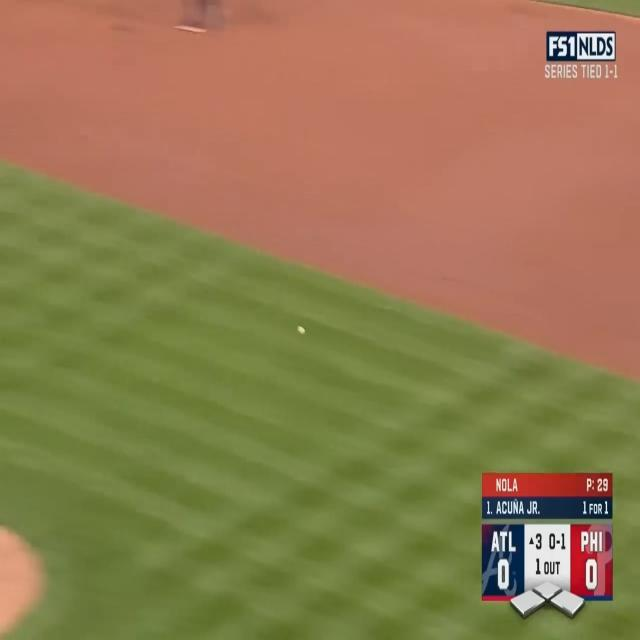baseball: (298, 326, 305, 334)
